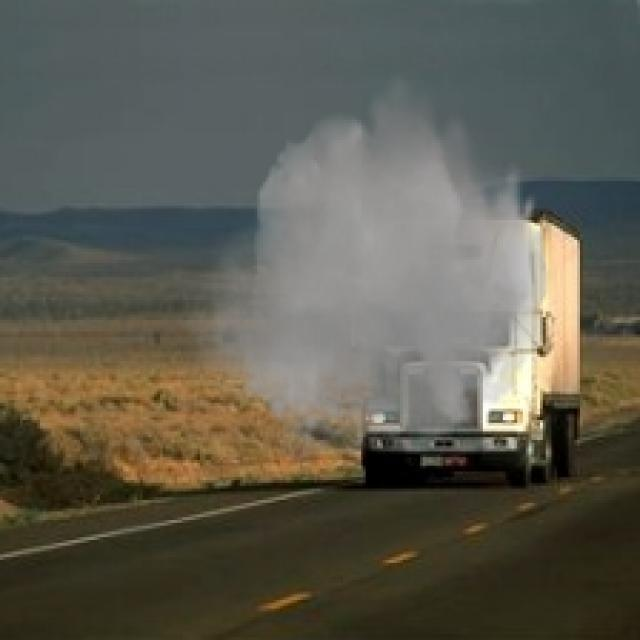Smoke: (182, 66, 558, 477)
